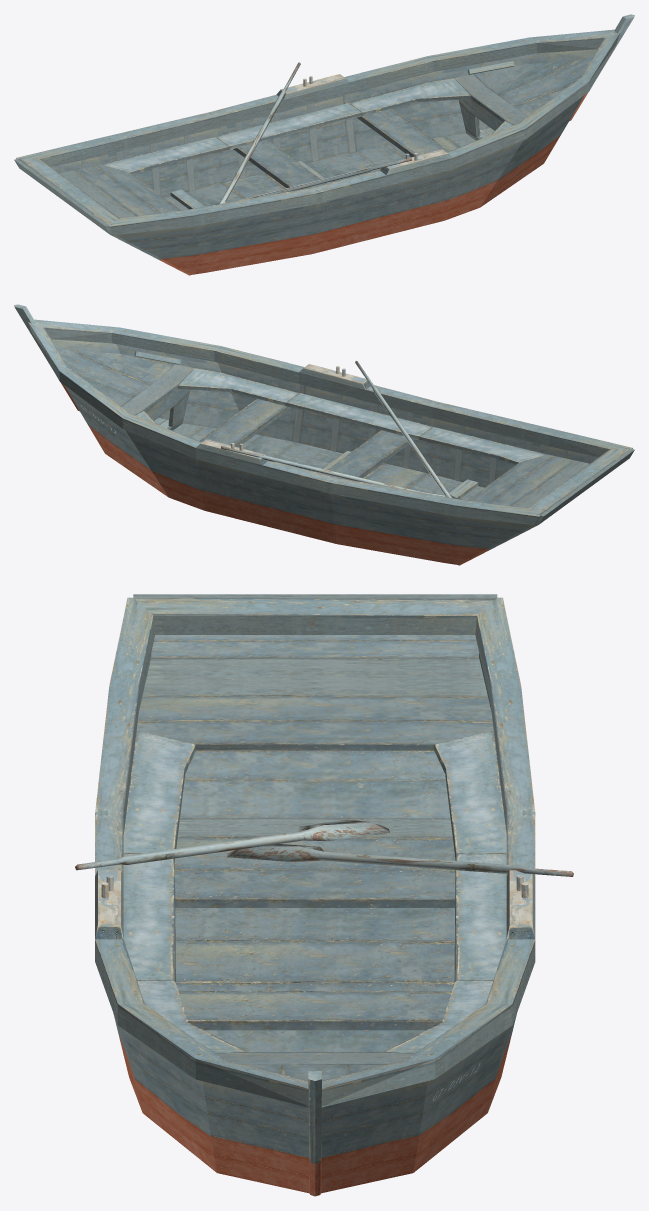
File: row_boat.obj
3 renders of one model, top to bottom at view 1: azimuth 30°, elevation 25°; view 2: azimuth 150°, elevation 25°; view 3: azimuth 270°, elevation 25°, orthographic. The views are drawn at different scales.
Parts seen in each view (by area): view 1: boat, oarL_Cylinder, oarR_Cylinder.002; view 2: boat, oarL_Cylinder, oarR_Cylinder.002; view 3: boat, oarL_Cylinder, oarR_Cylinder.002.
Part boxes in pixels (left/top/right/bottom): boat: left=14, top=14, right=634, bottom=275; oarL_Cylinder: left=215, top=62, right=300, bottom=204; oarR_Cylinder.002: left=238, top=158, right=411, bottom=200; boat: left=14, top=304, right=634, bottom=565; oarL_Cylinder: left=221, top=446, right=464, bottom=500; oarR_Cylinder.002: left=355, top=361, right=457, bottom=498; boat: left=95, top=594, right=535, bottom=1196; oarL_Cylinder: left=227, top=844, right=573, bottom=876; oarR_Cylinder.002: left=75, top=819, right=389, bottom=870.
Bounding box in the file's own units: 39.18 × 7.4 × 14.72.
Materials: 2 (2 with a texture image).
